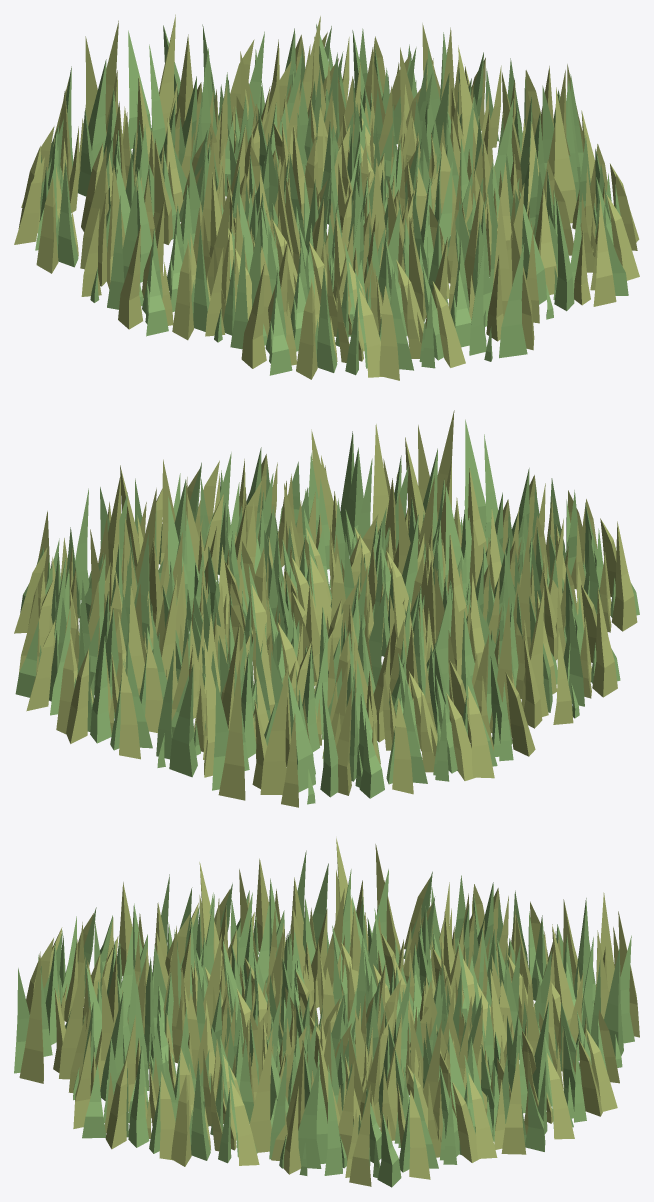
The model's file is Grass4.fbx.
3 views of the same model, one above another, from view 1: azimuth 30°, elevation 25°; view 2: azimuth 150°, elevation 25°; view 3: azimuth 270°, elevation 25° (orthographic). The views are drawn at different scales.
Parts seen in each view (by area): view 1: Grass4_LOD0; view 2: Grass4_LOD0; view 3: Grass4_LOD0.
Part boxes in pixels (<box>): Grass4_LOD0: <box>14,14,639,380</box>; Grass4_LOD0: <box>14,410,639,807</box>; Grass4_LOD0: <box>14,838,639,1187</box>.
Size of what is drawn, in the model's own units: 328 by 80.14 by 358.
